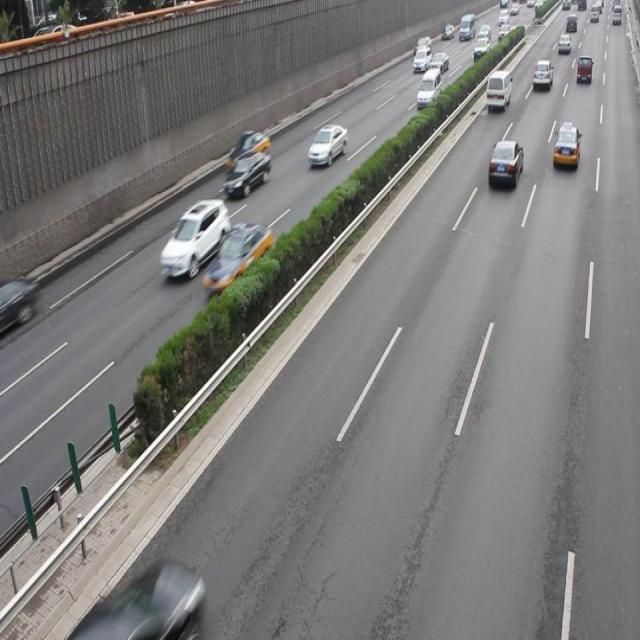car: (89, 562, 202, 640), (160, 197, 230, 278), (201, 222, 272, 294), (222, 149, 271, 197), (307, 122, 347, 166), (487, 138, 522, 188), (226, 133, 269, 170), (552, 122, 580, 170)
